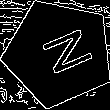N_SW: (27, 25, 90, 81)
